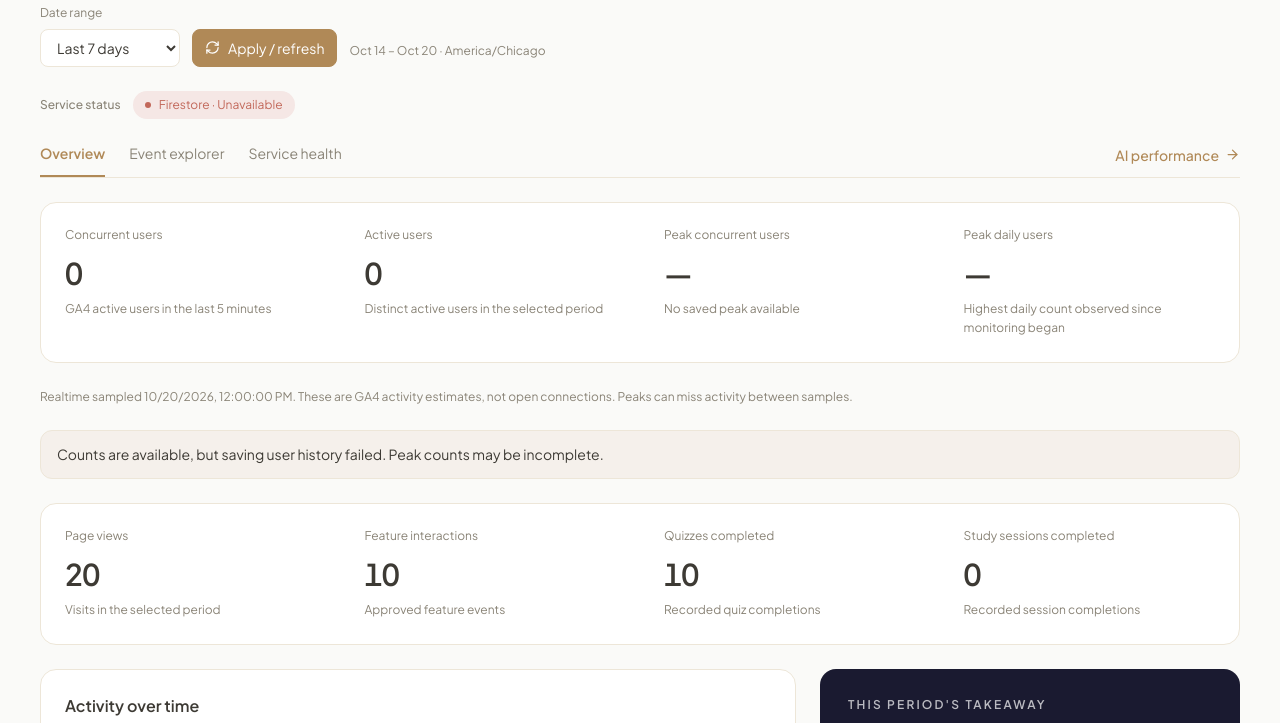
applies date filters, searches real event rows and expands their descriptions
The width and height of the screenshot is (1280, 723).
Select "Last 30 days" in the dropdown labelled "Date range" at (110, 48), box [40, 29, 180, 67]
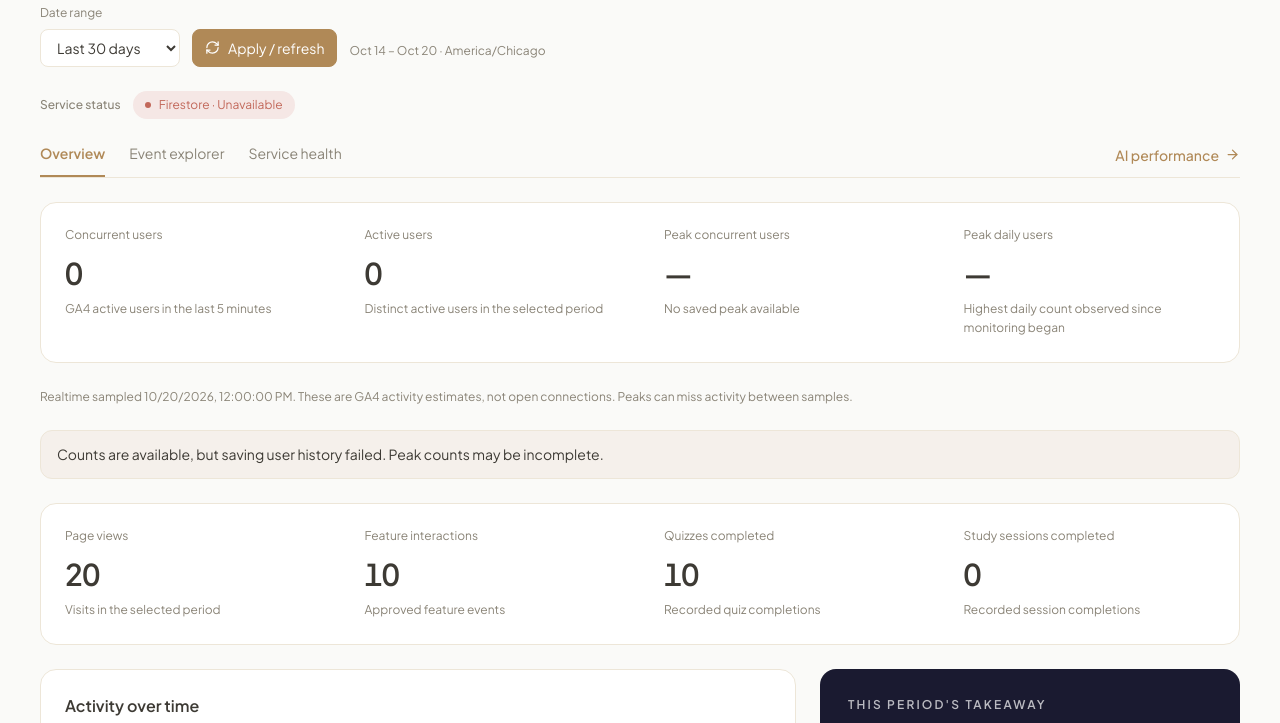
Click the button "Apply / refresh".
click(265, 48)  # box [192, 29, 338, 67]
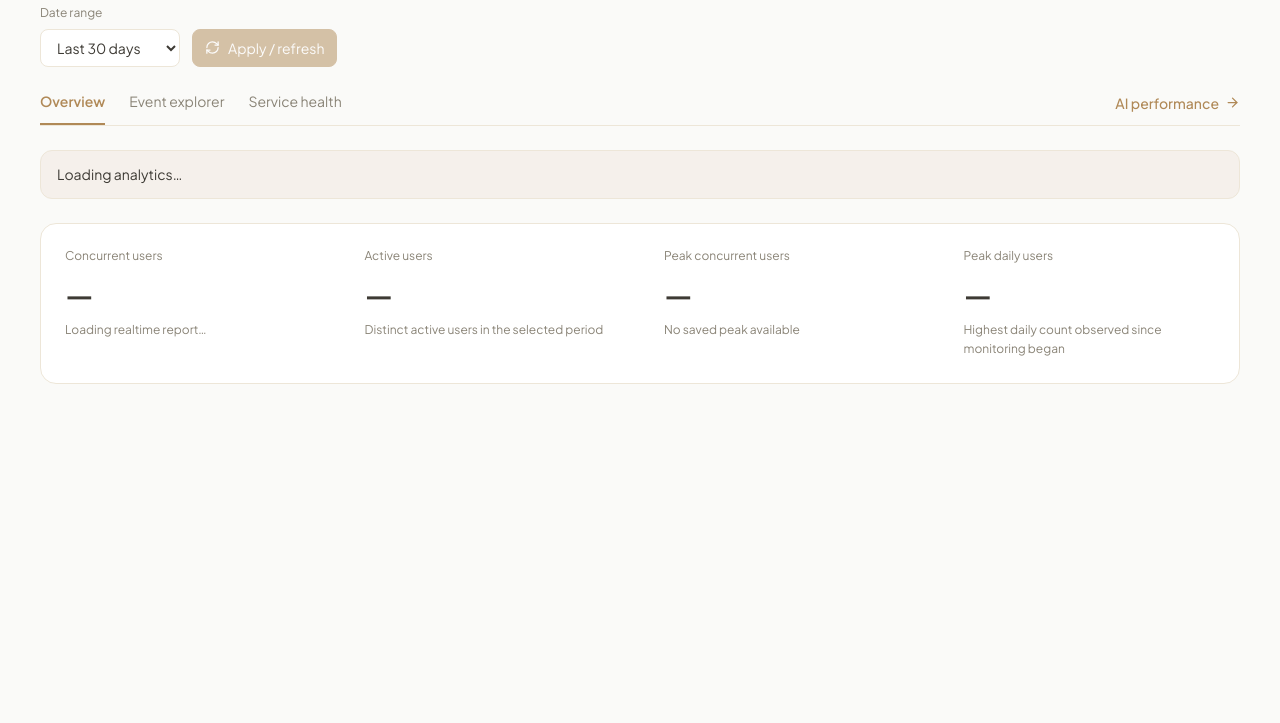
Click the button "Event explorer".
click(177, 108)  # box [129, 91, 224, 125]
(page scrolled)
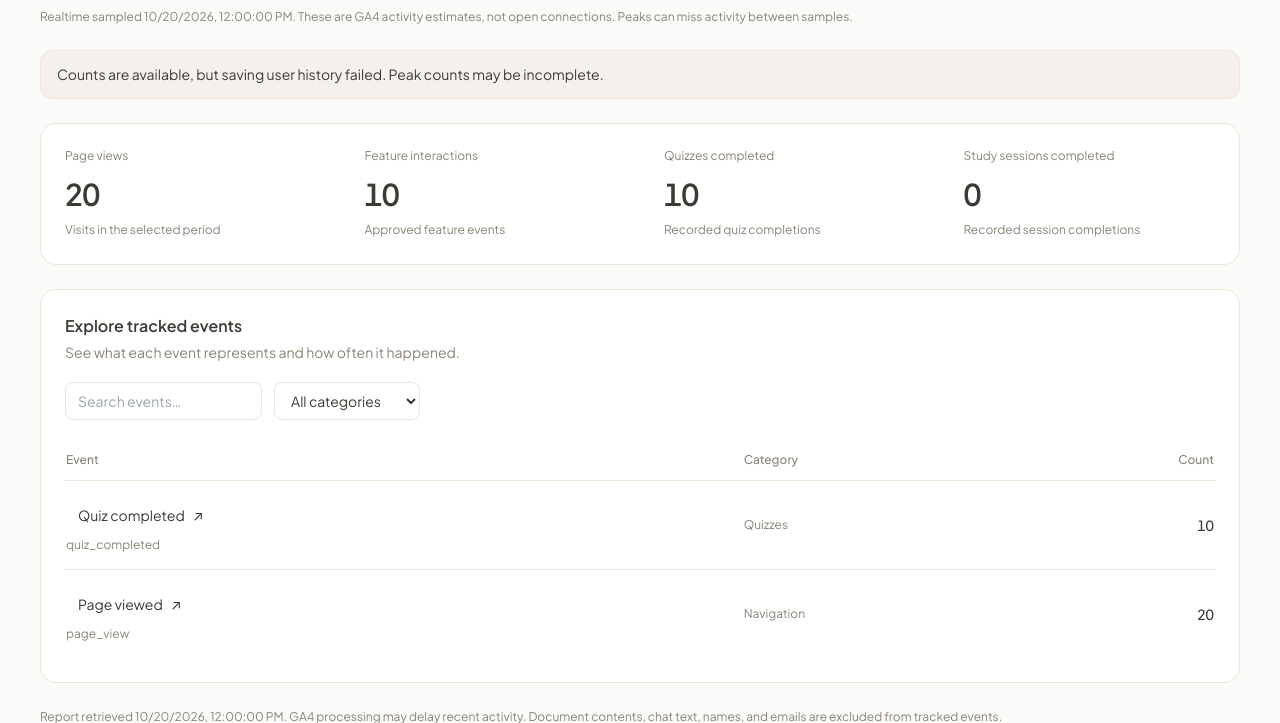
expect the heading "Explore tracked events" is shown: met, box [65, 314, 242, 336]
Type "quiz" into the search field labelled "Search events".
click(164, 400); type("quiz")  # box [65, 382, 262, 420]
(page scrolled)
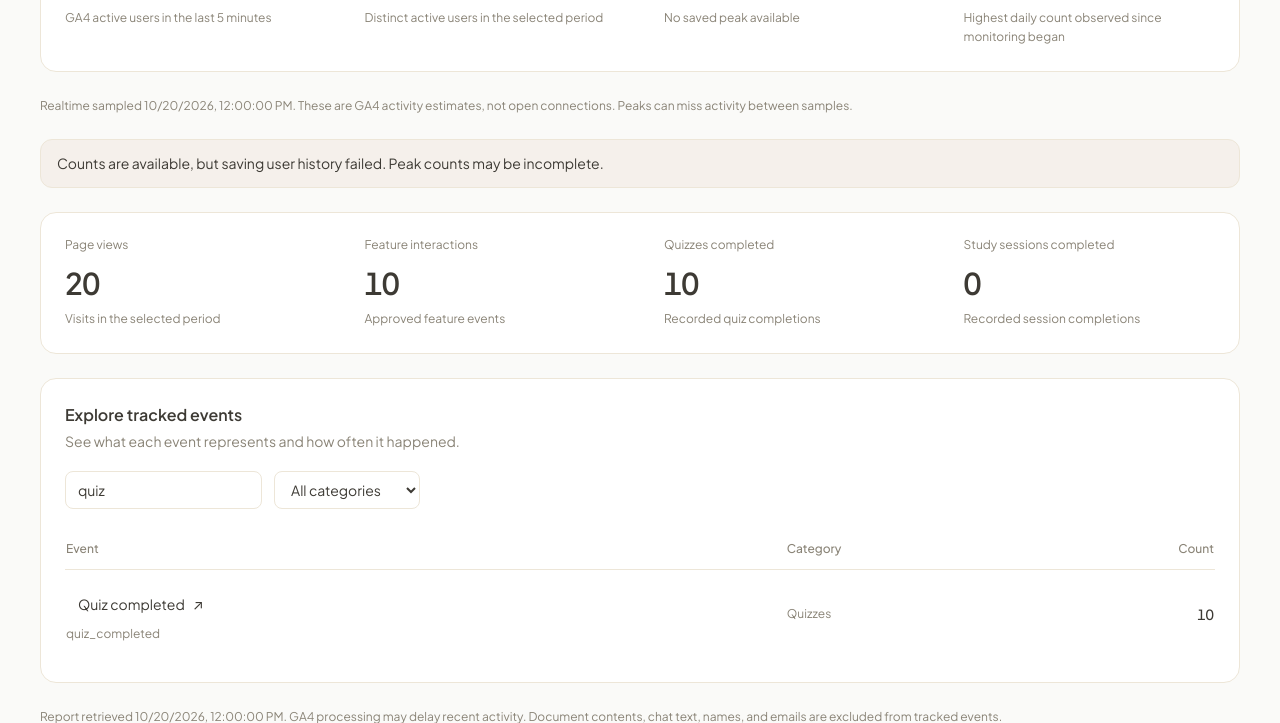
expect the text "page_view" is gone: met
Click the button "Quiz completed ↗".
click(141, 604)  # box [66, 586, 216, 622]
(page scrolled)
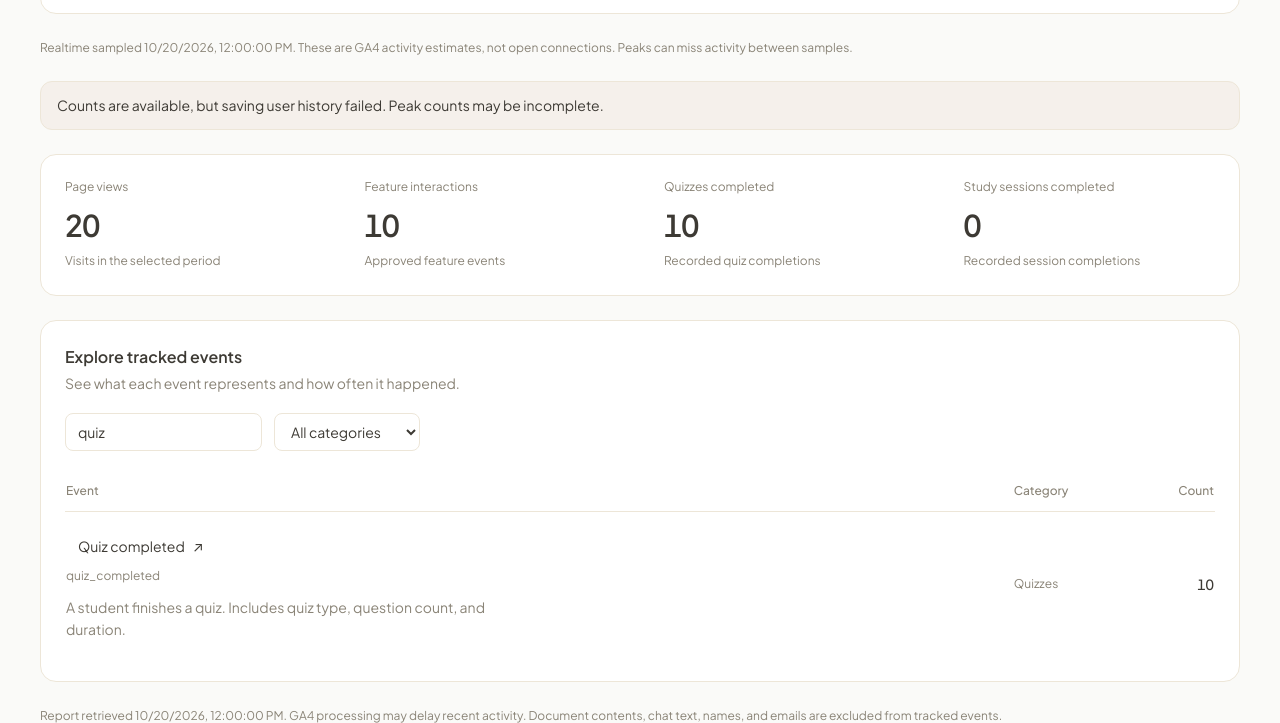
expect the text "A student finishes a quiz" is shown: met, box [66, 598, 485, 638]
